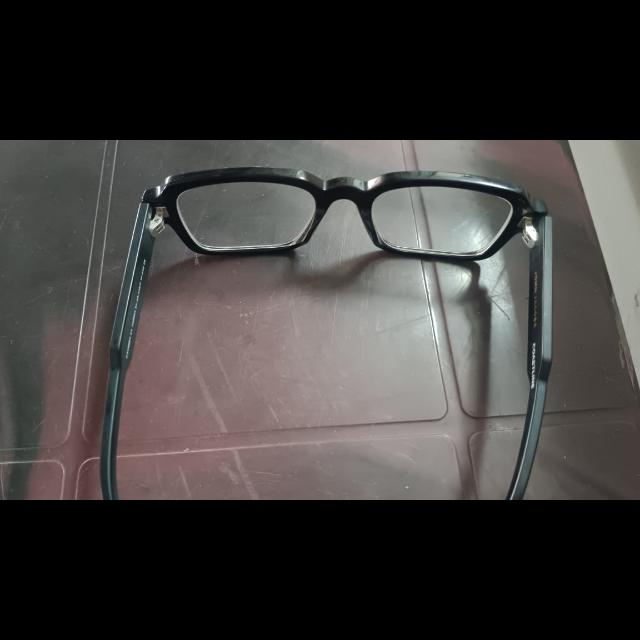glasses: (99, 164, 554, 500)
